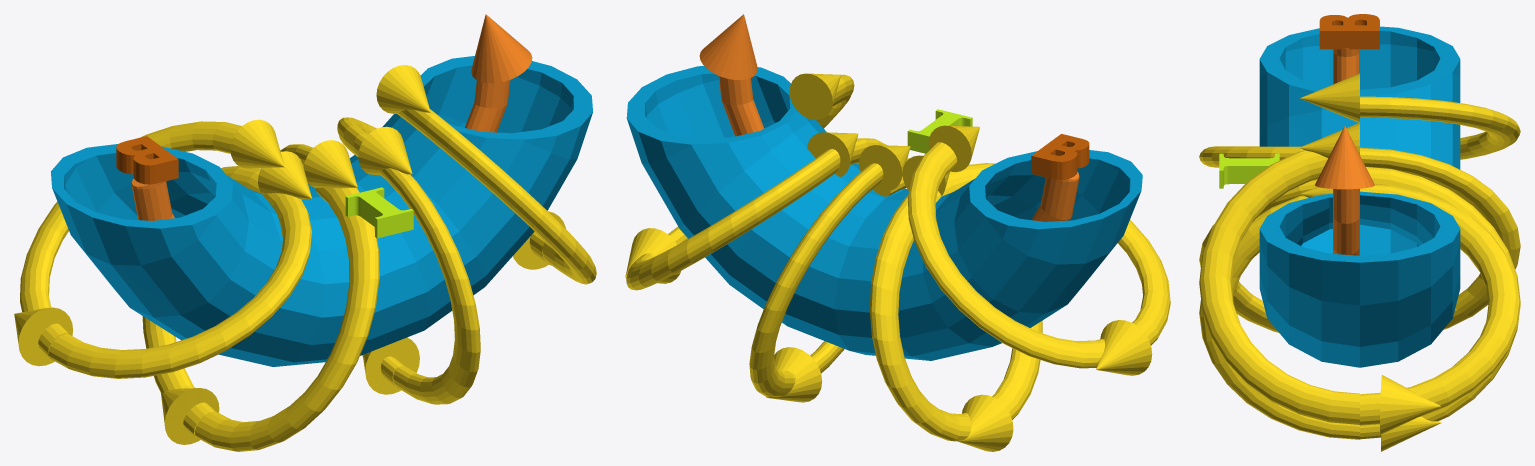
File: Cross Section Toroid.obj
3 views of the same model, side by side, from view 1: azimuth 30°, elevation 25°; view 2: azimuth 150°, elevation 25°; view 3: azimuth 270°, elevation 25° (orthographic). The views are drawn at different scales.
Visible parts, largest first — view 1: group_0_40919, group_0_16768282, group_0_16089887, group_0_13197574, group_0_13369114; view 2: group_0_40919, group_0_16768282, group_0_16089887, group_0_13197574, group_0_13369114; view 3: group_0_16768282, group_0_40919, group_0_16089887, group_0_13197574, group_0_13369114.
Boxes of the visible parts, x1,y1,x2,y2 form: group_0_40919: (51, 56, 592, 366); group_0_16768282: (14, 65, 596, 451); group_0_16089887: (131, 14, 532, 220); group_0_13197574: (116, 136, 178, 184); group_0_13369114: (345, 187, 413, 238); group_0_40919: (626, 66, 1142, 360); group_0_16768282: (625, 73, 1170, 451); group_0_16089887: (699, 14, 1079, 221); group_0_13197574: (1031, 134, 1089, 179); group_0_13369114: (907, 109, 972, 153); group_0_16768282: (1199, 73, 1520, 451); group_0_40919: (1259, 26, 1460, 367); group_0_16089887: (1315, 48, 1374, 255); group_0_13197574: (1319, 14, 1379, 49); group_0_13369114: (1219, 153, 1279, 188).
Size of the model in its own units: 30 by 19.78 by 16.
